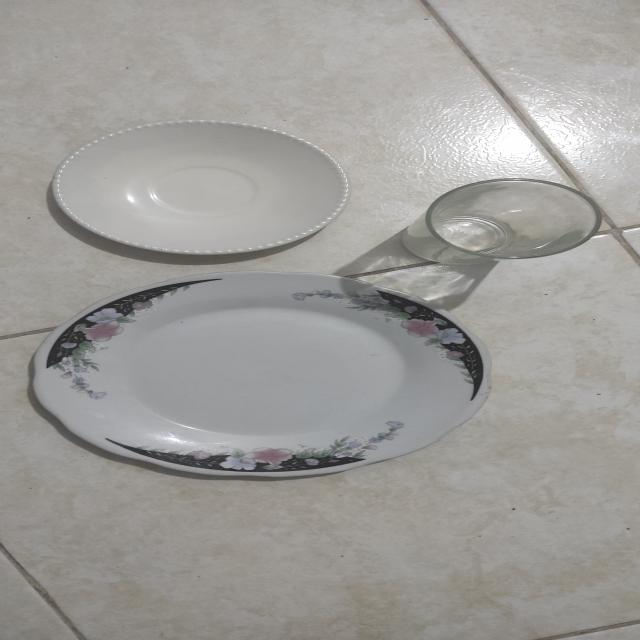non-organic waste: (1, 267, 552, 487), (25, 112, 384, 265)
